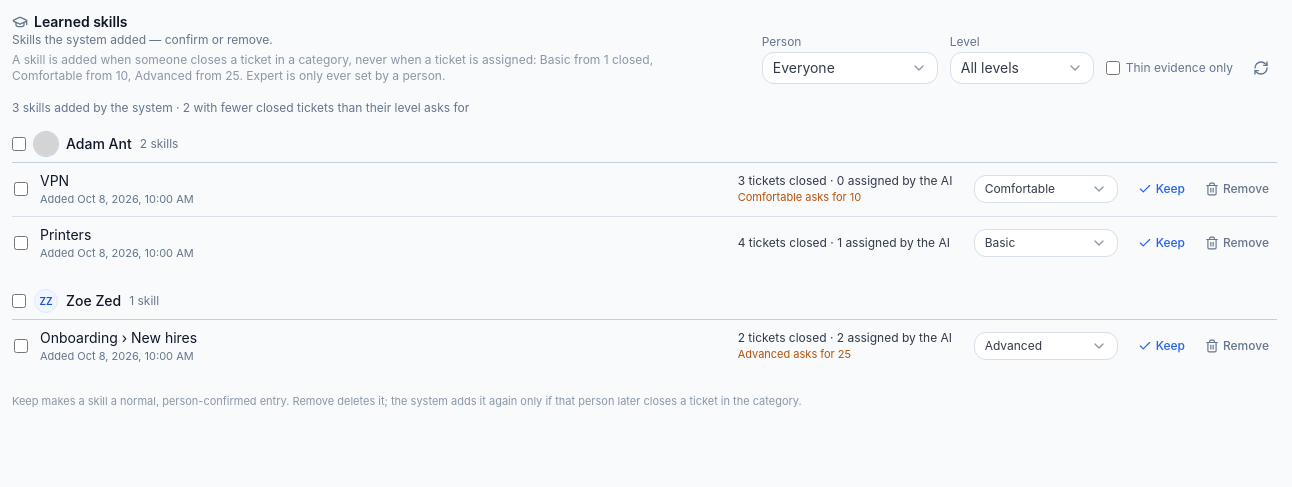
Test: LearnedSkillsTab › bulk remove asks first, then deletes the selection in one request
This screenshot has width=1292, height=487.
Click the checkbox named "Select all of Adam Ant's learned skills": (19, 144) [12,137,26,151]
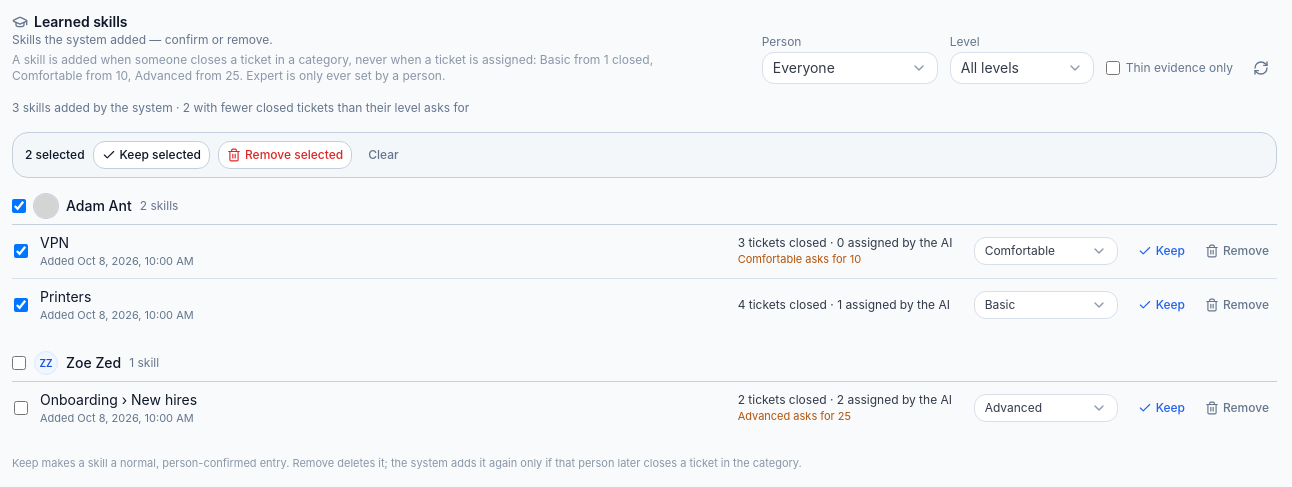
Click the button "Remove selected": (285, 155) [218,141,352,169]
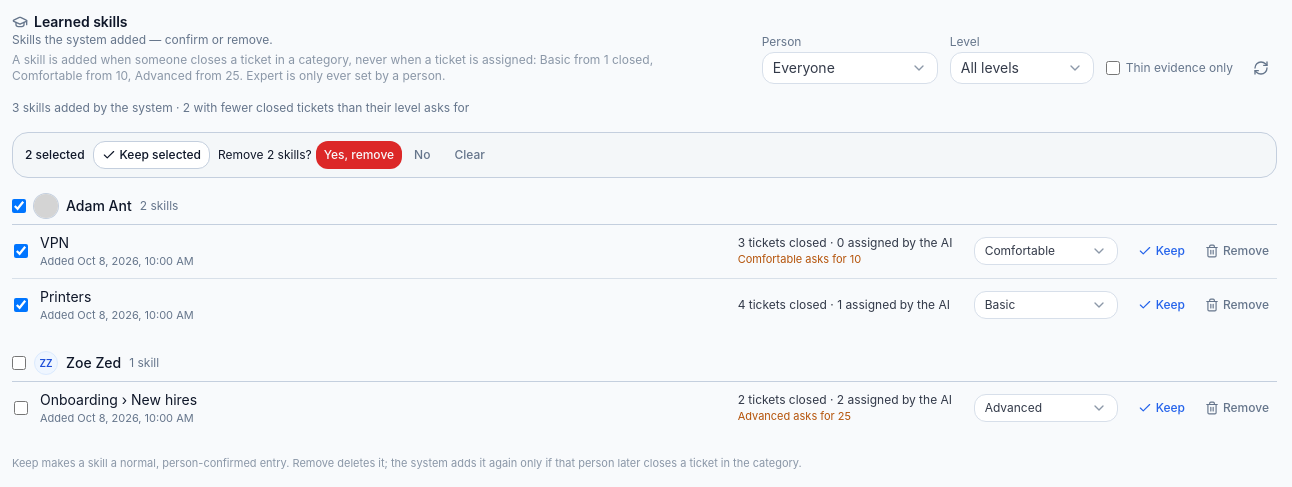
Check: the element with test id "learned-bulk-bar" shows "Remove 2 skills?", box [12,132,1277,178]
Click the button "Yes, remove": (359, 155) [316,141,402,169]
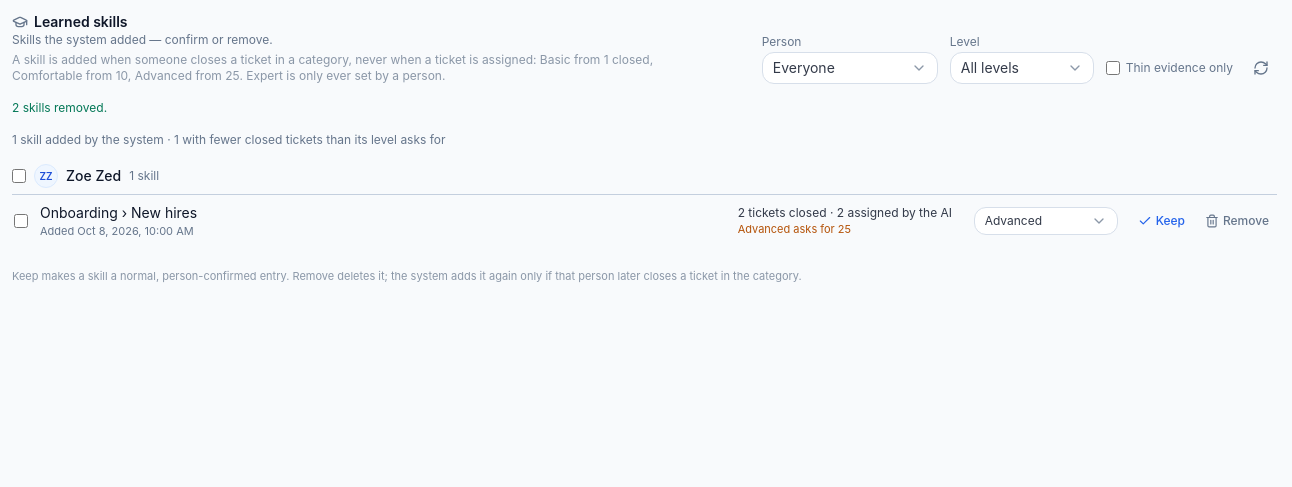
Check: the number of list items with test id "learned-row" is 1, box [12,195,1277,248]
